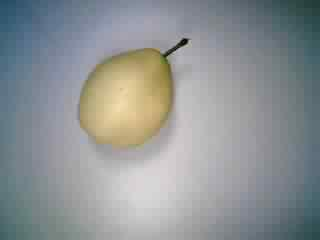pear: (68, 28, 195, 156)
